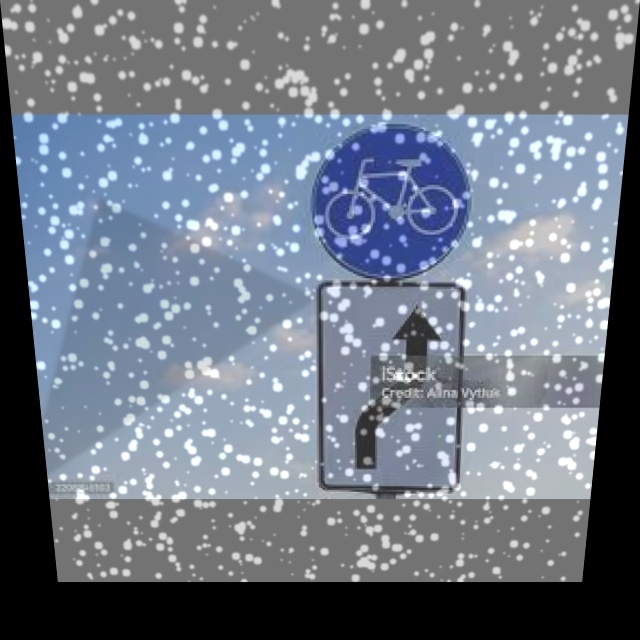Compulsory_Cycle_Track: (311, 125, 477, 277)
